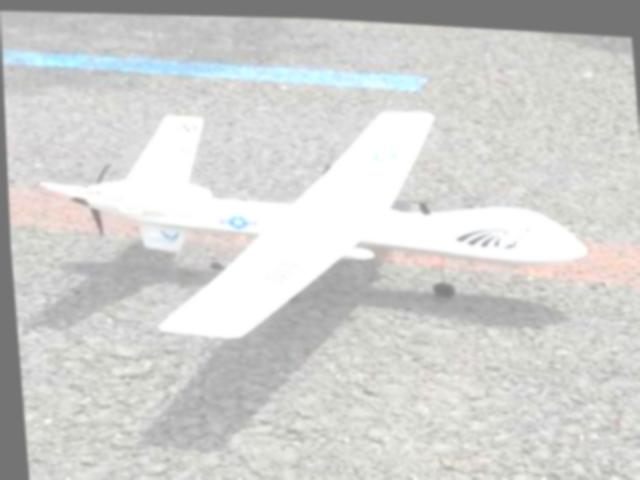uav: (35, 79, 604, 361)
